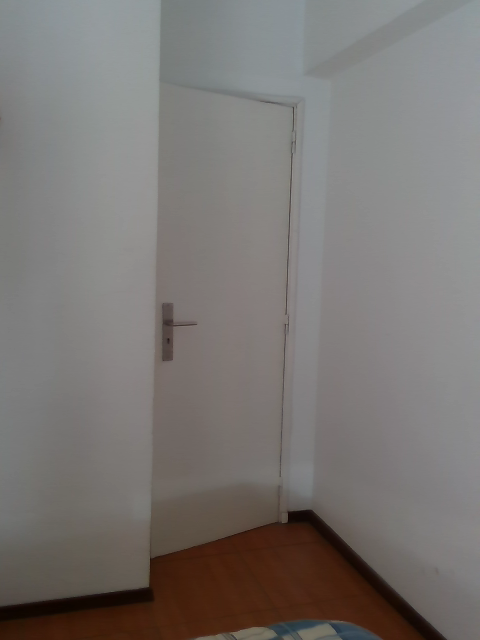closed: (149, 78, 305, 567)
